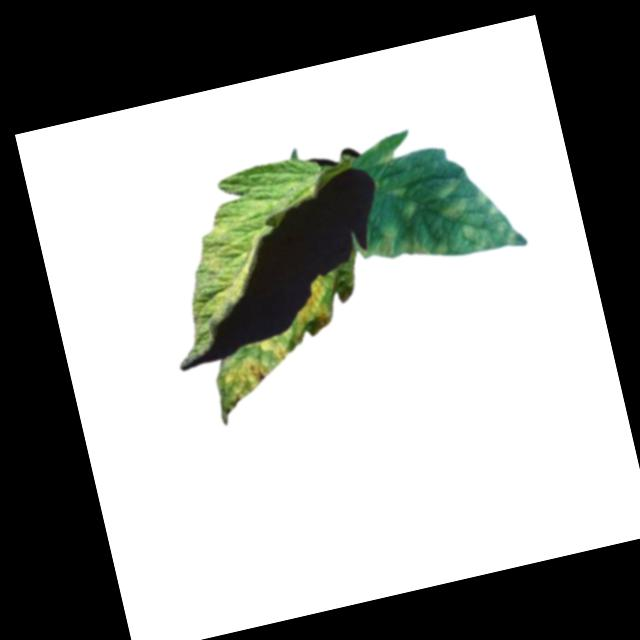Leaf_Mold: (363, 162, 527, 276), (280, 275, 343, 348), (216, 351, 277, 411), (261, 335, 289, 368)
